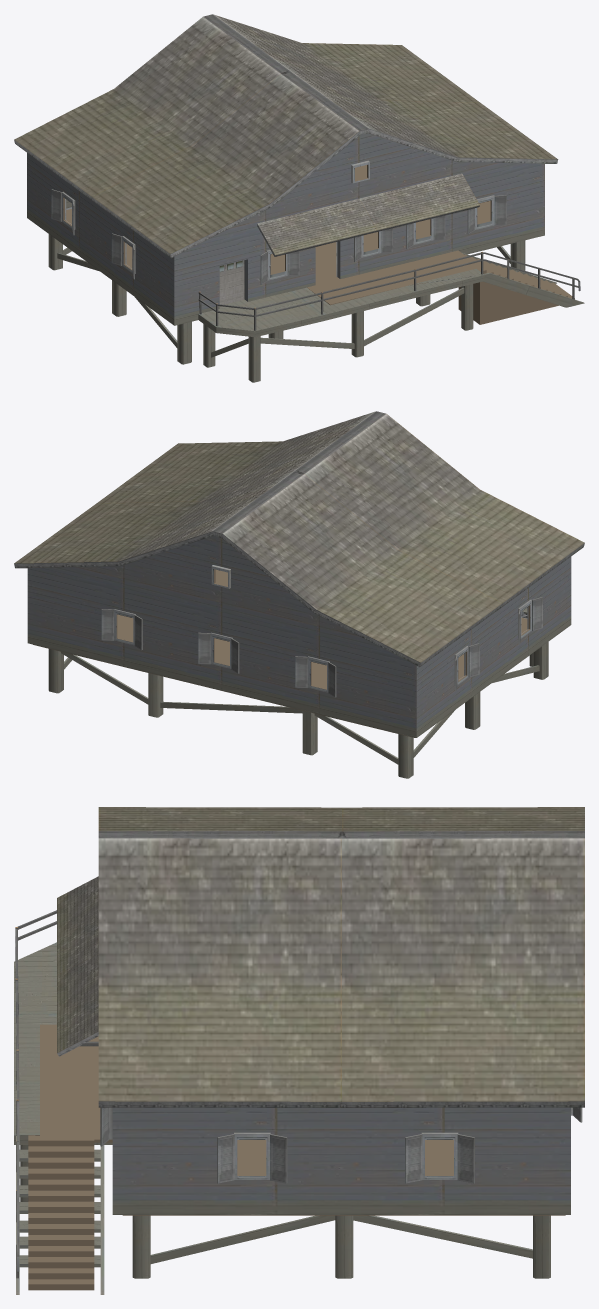
Rendered from rural-wood-1.zfix-v21.lod0.glb.
The picture shows the model from 3 angles, top to bottom: view 1: azimuth 30°, elevation 25°; view 2: azimuth 150°, elevation 25°; view 3: azimuth 270°, elevation 25°; orthographic projection. The views are drawn at different scales.
Parts seen in each view (by area): view 1: Rural_WoodenBuilding_1_Rural_Housetrim_1_0, Rural_WoodenBuilding_1_Rural_Walltrim_1_0, Walkable floors and stairs; view 2: Rural_WoodenBuilding_1_Rural_Housetrim_1_0, Rural_WoodenBuilding_1_Rural_Walltrim_1_0, Walkable floors and stairs; view 3: Rural_WoodenBuilding_1_Rural_Housetrim_1_0, Rural_WoodenBuilding_1_Rural_Walltrim_1_0, Walkable floors and stairs.
Boxes of the visible parts, bbox=[...] form: Rural_WoodenBuilding_1_Rural_Housetrim_1_0: bbox=[14, 14, 580, 330]; Rural_WoodenBuilding_1_Rural_Walltrim_1_0: bbox=[27, 133, 584, 382]; Walkable floors and stairs: bbox=[63, 164, 574, 324]; Rural_WoodenBuilding_1_Rural_Housetrim_1_0: bbox=[14, 411, 584, 697]; Rural_WoodenBuilding_1_Rural_Walltrim_1_0: bbox=[27, 536, 571, 778]; Walkable floors and stairs: bbox=[33, 569, 530, 737]; Rural_WoodenBuilding_1_Rural_Housetrim_1_0: bbox=[14, 807, 584, 1278]; Rural_WoodenBuilding_1_Rural_Walltrim_1_0: bbox=[14, 942, 570, 1294]; Walkable floors and stairs: bbox=[28, 1024, 565, 1290].
Size of the model in its own units: 21.07 by 10.44 by 17.27.
3 materials, 2 textured.
